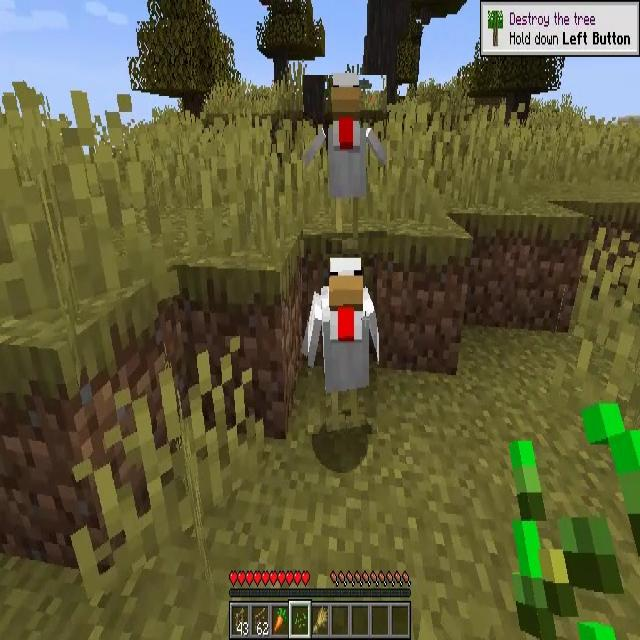duck: (303, 75, 387, 238), (308, 254, 377, 434)
